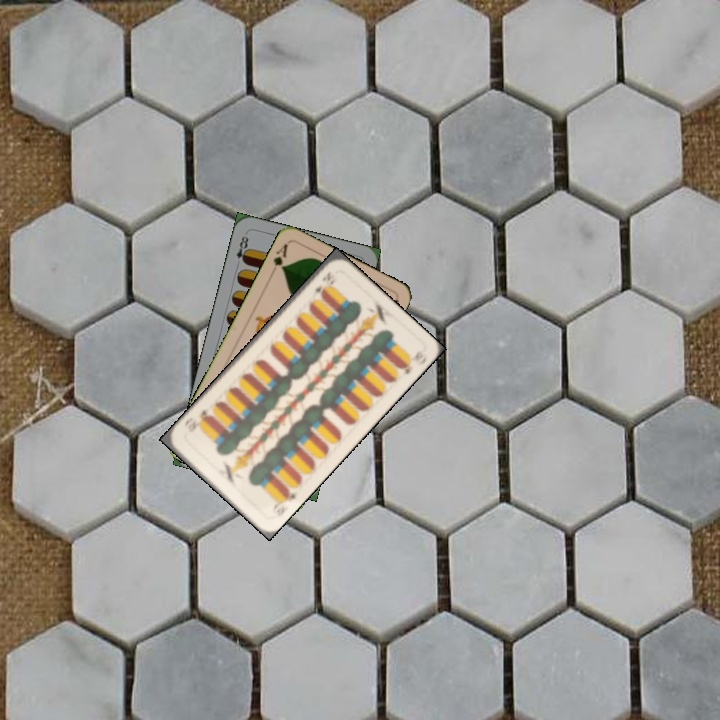E10: (268, 485, 300, 519), (307, 267, 336, 301)
E8: (232, 230, 252, 270)
GA: (266, 239, 290, 278)
